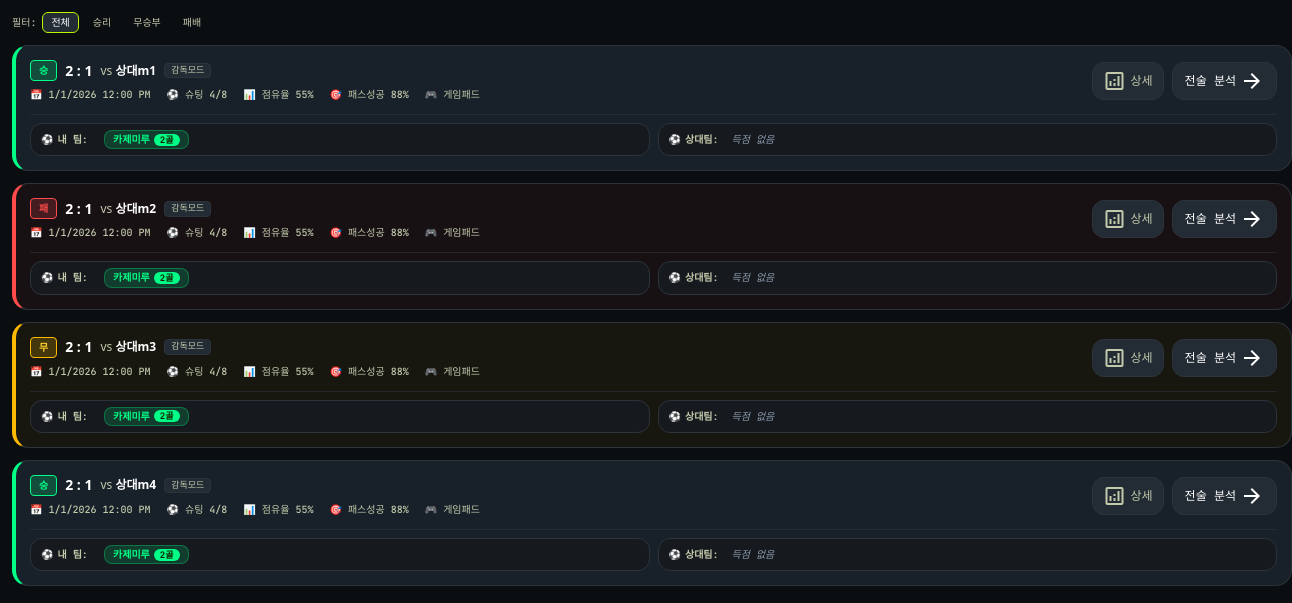
Test: MatchHistoryList › 무승부·패배 필터도 각각 동작한다
Click the button "무승부": (147, 22) [125,13,169,32]
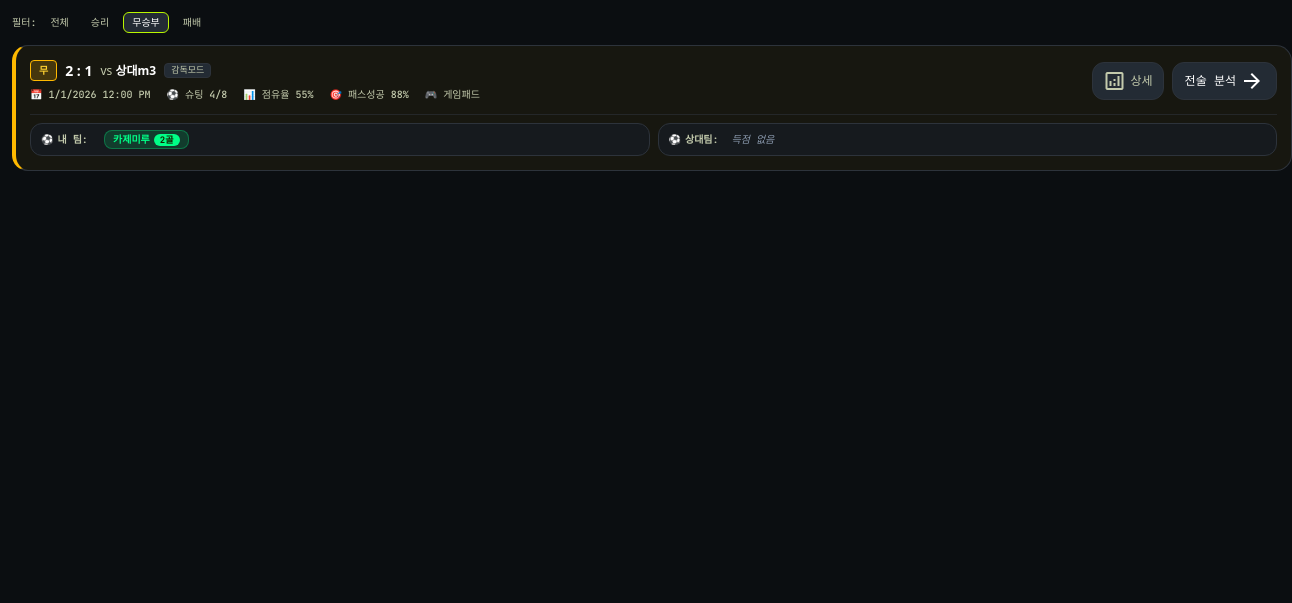
Check: the text "상대m3" is shown once, box [116,62,156,78]
Click the button "패배": (192, 22) [175,13,209,32]
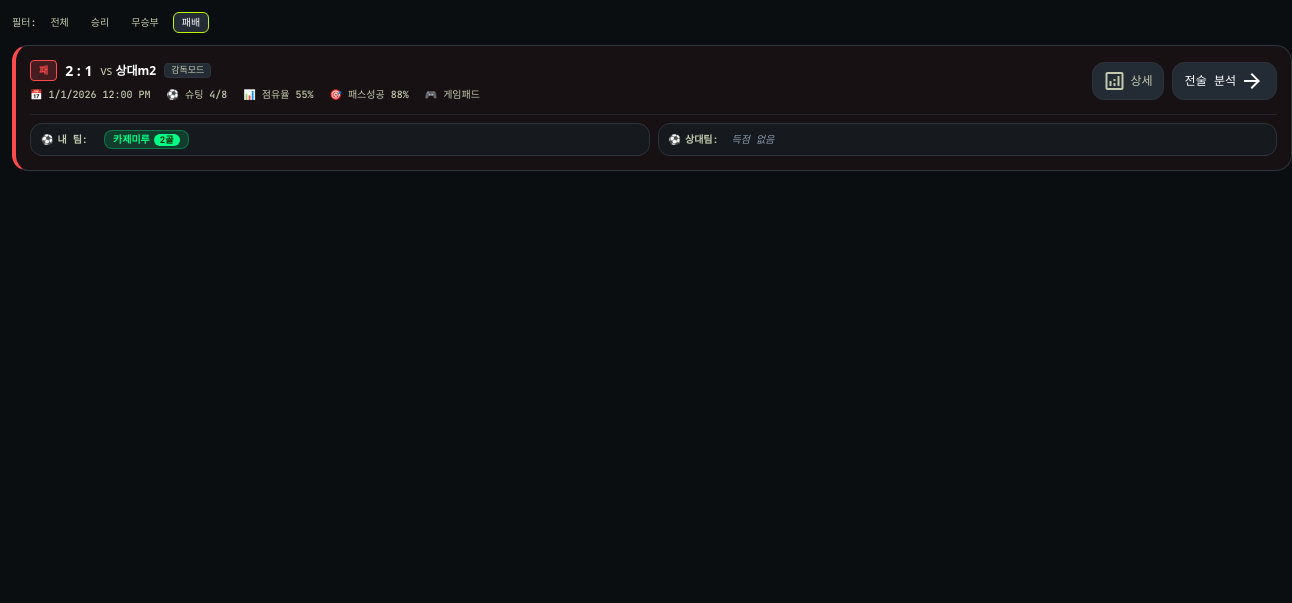
Check: the text "상대m2" is shown, box [116,62,156,78]
